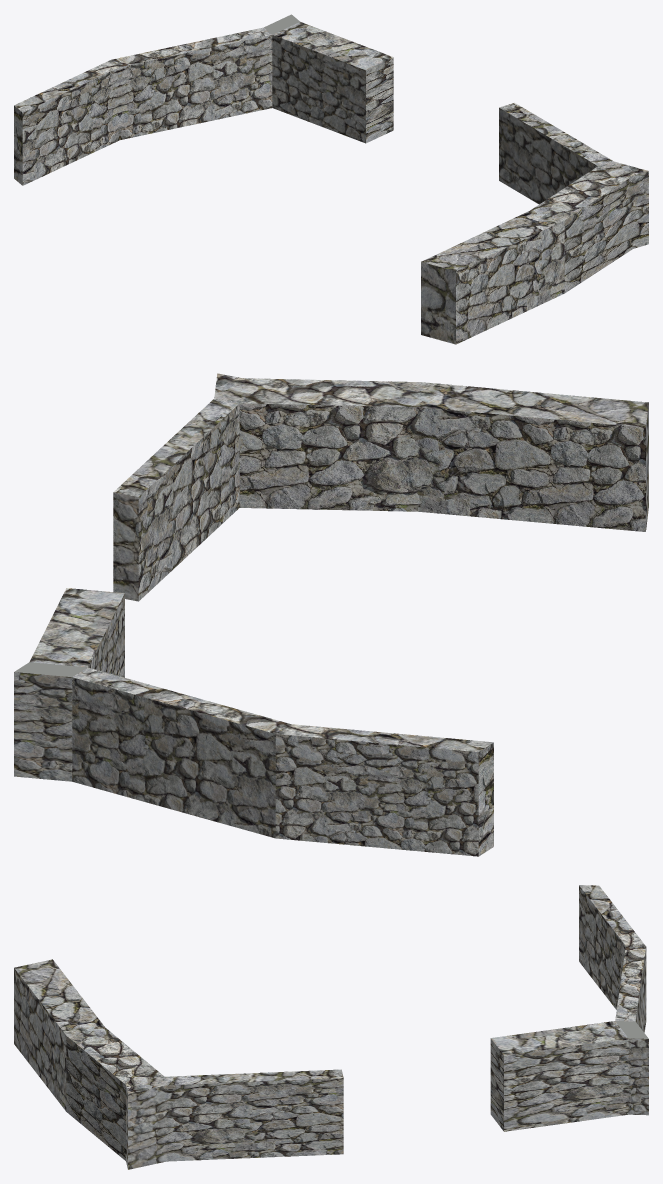
Rendered from Wall.fbx.
The picture shows the model from 3 angles, top to bottom: view 1: azimuth 30°, elevation 25°; view 2: azimuth 150°, elevation 25°; view 3: azimuth 270°, elevation 25°; orthographic projection. The views are drawn at different scales.
Parts seen in each view (by area): view 1: pCube18; view 2: pCube18; view 3: pCube18.
Part boxes in pixels (box(x1,y1,x2,y2)): pCube18: box(14, 14, 648, 344); pCube18: box(14, 373, 648, 856); pCube18: box(14, 885, 648, 1169).
Size of the model in its own units: 10.32 by 1.76 by 13.27.
